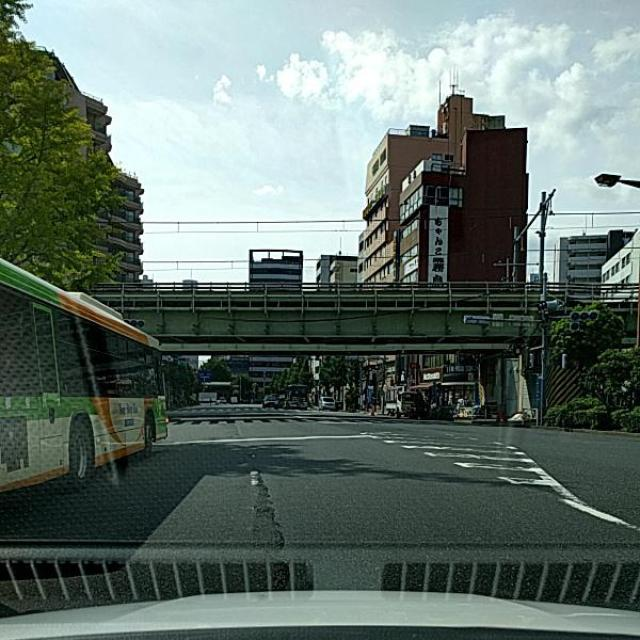Crack: (217, 410, 316, 548)
